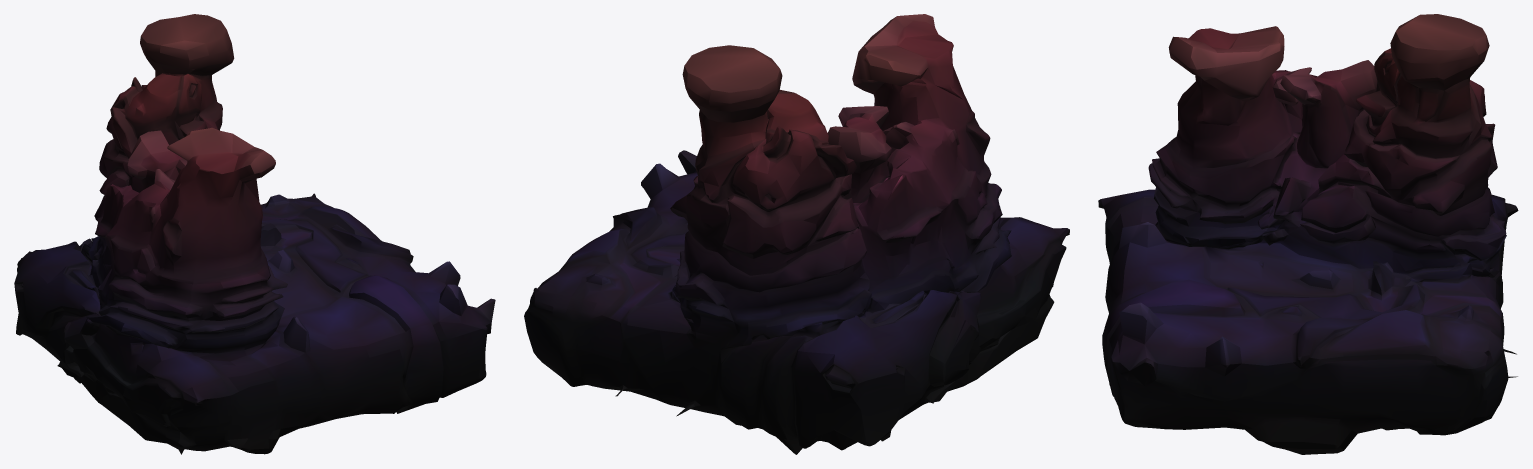
Rendered from CosChamps4_land_w_rock.fbx.
3 renders of one model, left to right at view 1: azimuth 30°, elevation 25°; view 2: azimuth 150°, elevation 25°; view 3: azimuth 270°, elevation 25°, orthographic. The views are drawn at different scales.
Parts seen in each view (by area): view 1: cliffrock_generator59; view 2: cliffrock_generator59; view 3: cliffrock_generator59.
Boxes of the visible parts, x1=… form: cliffrock_generator59: x1=14, y1=14, x2=495, y2=454; cliffrock_generator59: x1=524, y1=14, x2=1069, y2=454; cliffrock_generator59: x1=1098, y1=14, x2=1518, y2=454.
Bounding box in the file's own units: 4858 × 4296 × 4637.
